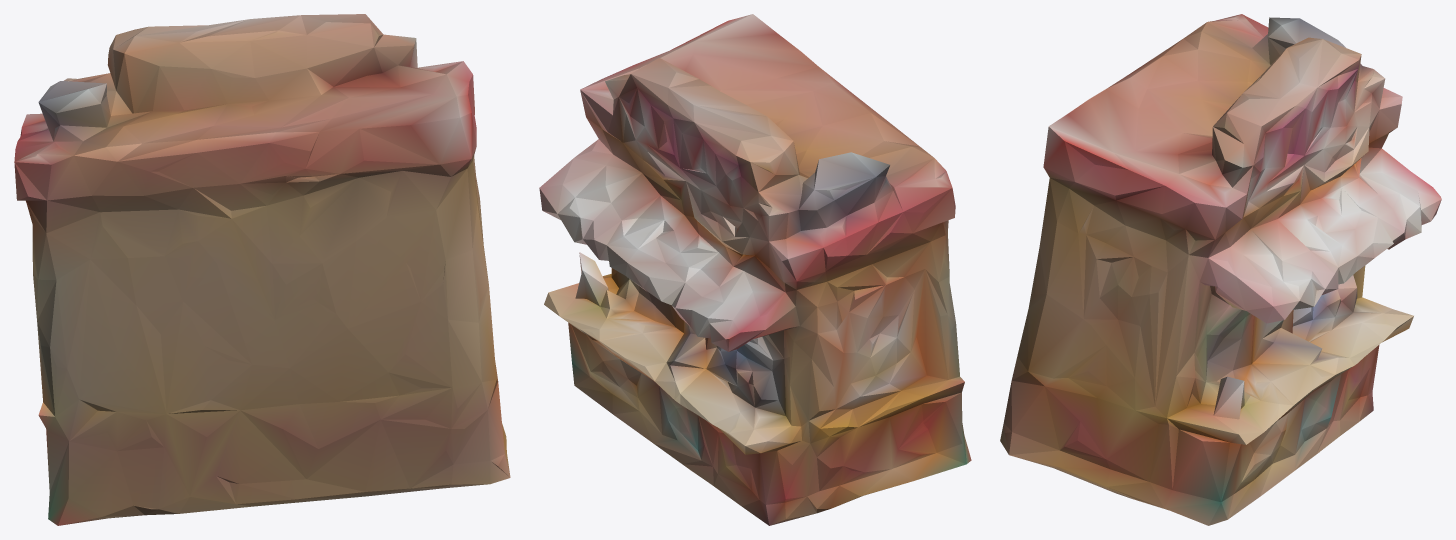
File: kiosk.glb
3 views of the same model, side by side, from view 1: azimuth 30°, elevation 25°; view 2: azimuth 150°, elevation 25°; view 3: azimuth 270°, elevation 25° (orthographic). The views are drawn at different scales.
Visible parts, largest first — view 1: world; view 2: world; view 3: world.
Part boxes in pixels (x1=…): world: x1=14, y1=14, x2=510, y2=525; world: x1=539, y1=14, x2=971, y2=525; world: x1=1000, y1=14, x2=1441, y2=525.
Size of the model in its own units: 2.97 by 2.6 by 2.67.
